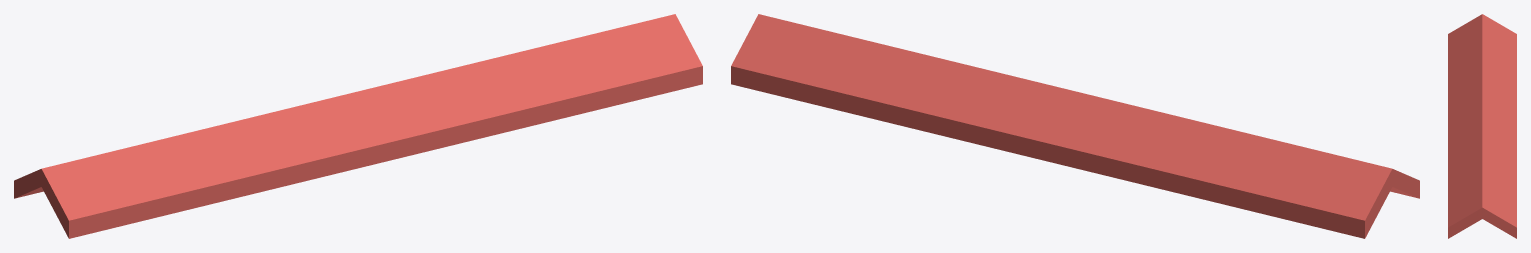
The model's file is golf-course-and-clubhouse-clubhouse-ridge-cap-76fa21ab__33497.glb.
3 renders of one model, left to right at view 1: azimuth 30°, elevation 25°; view 2: azimuth 150°, elevation 25°; view 3: azimuth 270°, elevation 25°, orthographic. The views are drawn at different scales.
Visible parts, largest first — view 1: clubhouse-ridge-cap; view 2: clubhouse-ridge-cap; view 3: clubhouse-ridge-cap.
Boxes of the visible parts, left/top/right/bottom form: clubhouse-ridge-cap: left=14, top=14, right=702, bottom=238; clubhouse-ridge-cap: left=731, top=14, right=1419, bottom=238; clubhouse-ridge-cap: left=1448, top=14, right=1516, bottom=238.
Bounding box in the file's own units: 4 × 0.3027 × 0.6001.
